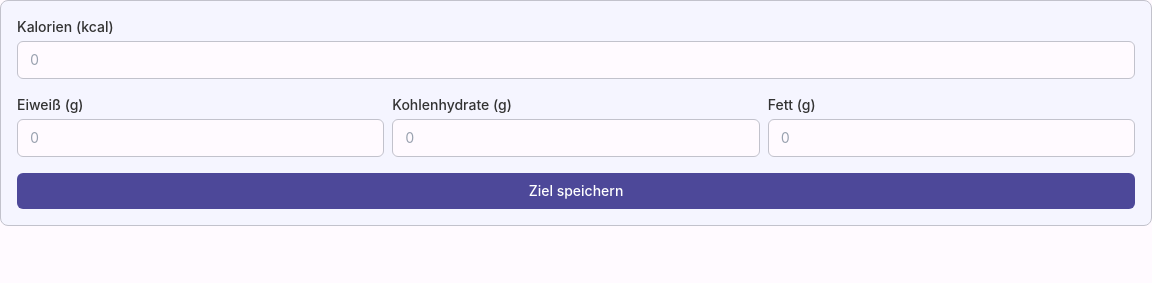
Test case: NutritionGoalForm › blocks submission when calories is missing
Step 1. Click the button "Ziel speichern" → (576, 191), box [17,173,1135,209]
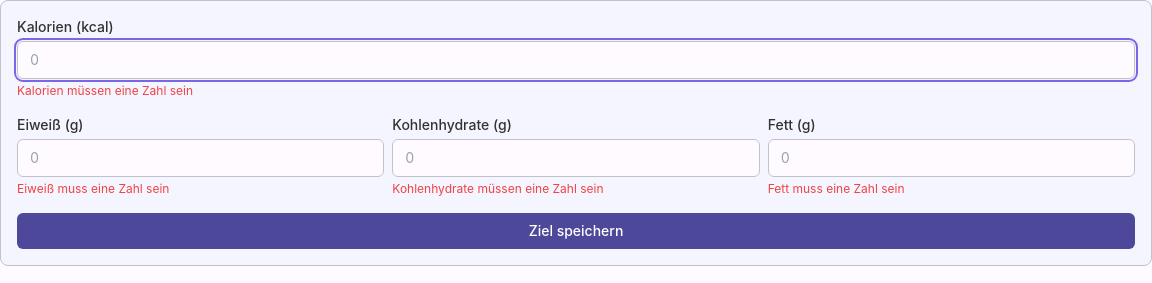
Check: the text "Kalorien müssen eine Zahl sein" is shown, box [17,83,193,98]
